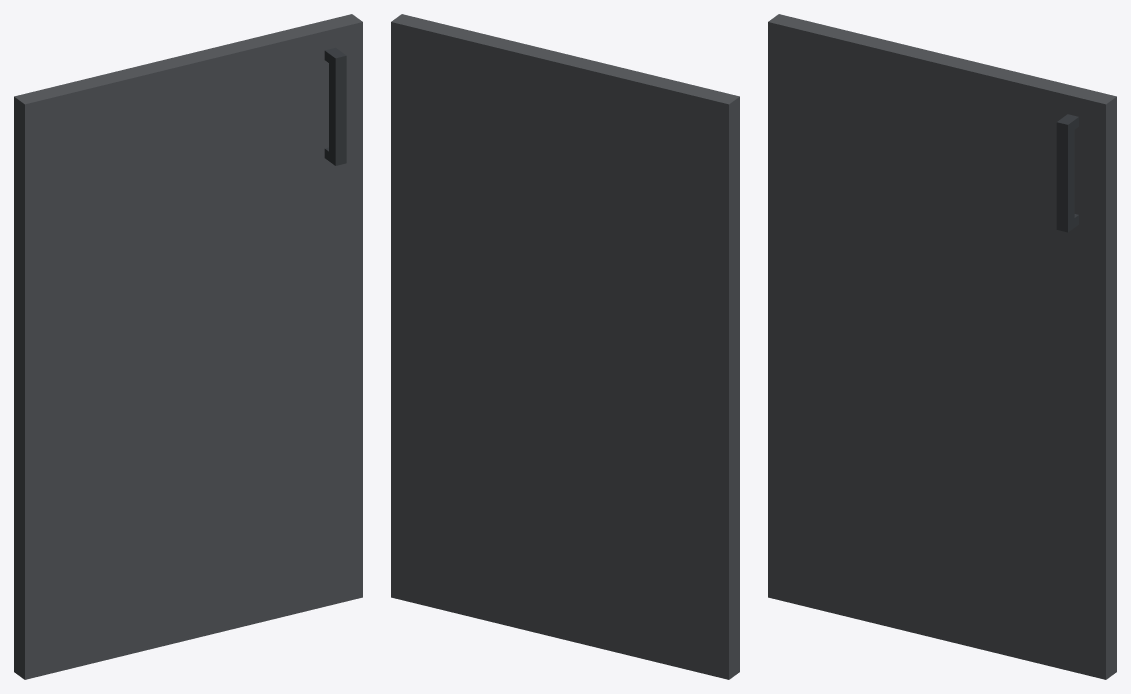
File: BathroomDoor_C3_07.fbx
3 views of the same model, side by side, from view 1: azimuth 30°, elevation 25°; view 2: azimuth 150°, elevation 25°; view 3: azimuth 330°, elevation 25° (orthographic).
Visible parts, largest first — view 1: BathroomDoor_C3_07; view 2: BathroomDoor_C3_07; view 3: BathroomDoor_C3_07.
Part boxes in pixels (x1,y1,x2,y2): BathroomDoor_C3_07: (14, 14, 362, 679); BathroomDoor_C3_07: (391, 14, 739, 679); BathroomDoor_C3_07: (768, 14, 1116, 679).
Size of the model in its own units: 45 by 73.19 by 5.03.
